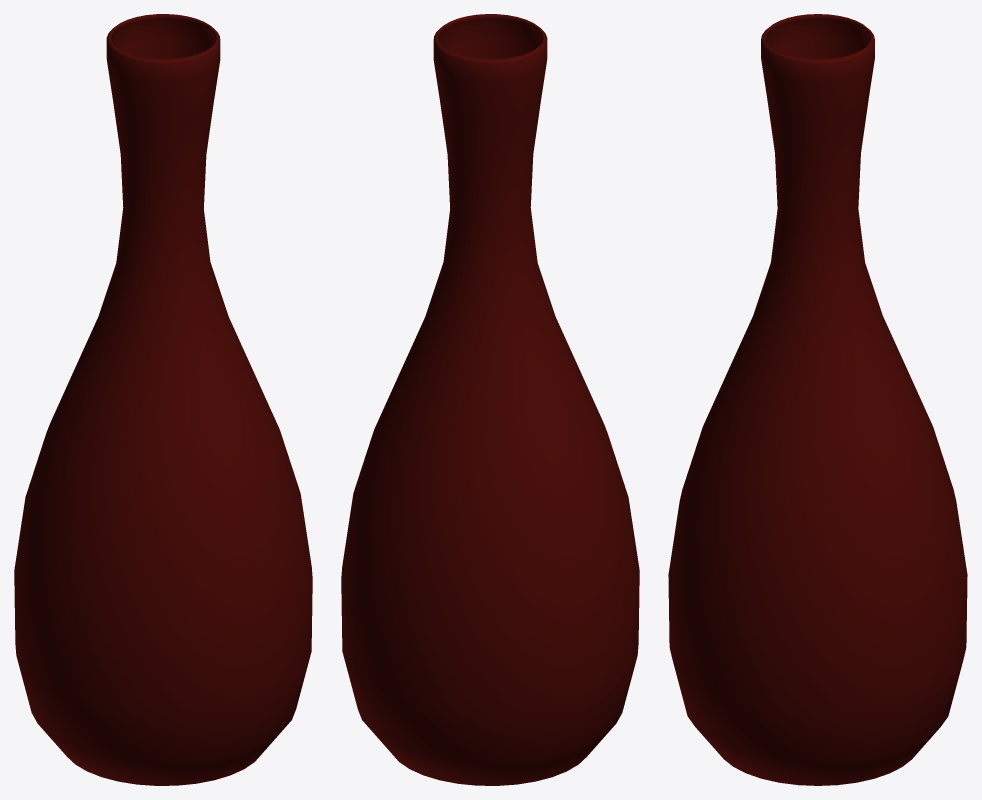
Rendered from vase_red.fbx.
3 views of the same model, side by side, from view 1: azimuth 30°, elevation 25°; view 2: azimuth 150°, elevation 25°; view 3: azimuth 270°, elevation 25° (orthographic).
Visible parts, largest first — view 1: Plane; view 2: Plane; view 3: Plane.
Part boxes in pixels (x1=…): Plane: x1=14, y1=14, x2=312, y2=785; Plane: x1=341, y1=14, x2=639, y2=785; Plane: x1=668, y1=14, x2=967, y2=785.
Bounding box in the file's own units: 15 × 40 × 15.
